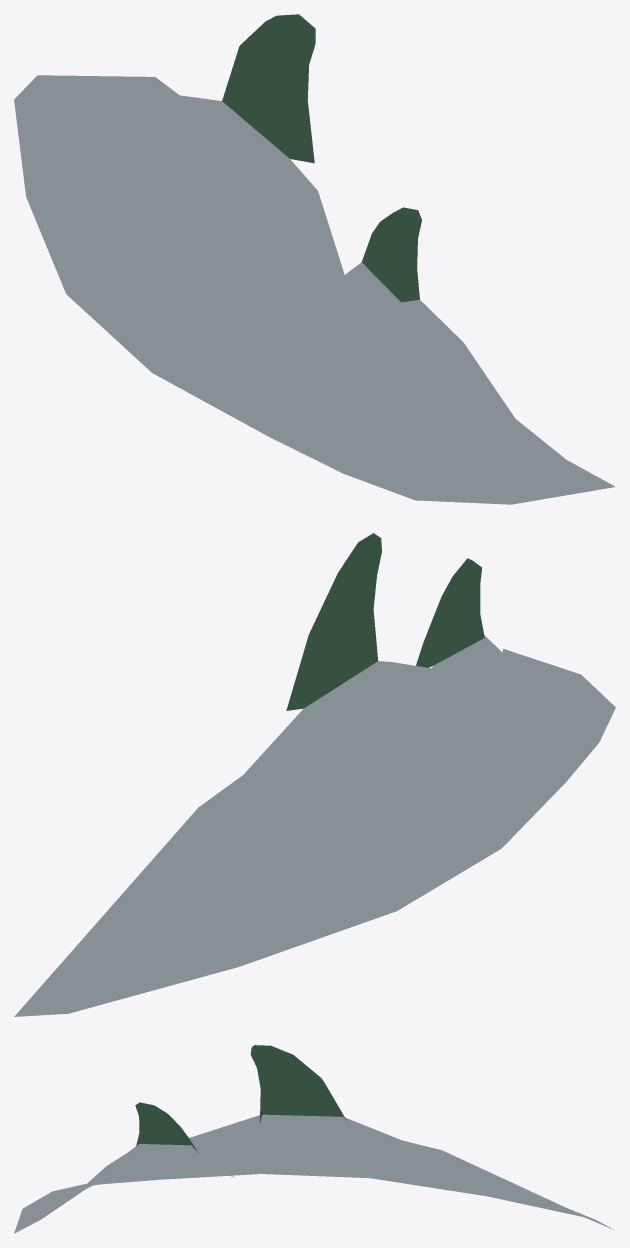
Rendered from Chunk9.obj.
3 renders of one model, top to bottom at view 1: azimuth 30°, elevation 25°; view 2: azimuth 150°, elevation 25°; view 3: azimuth 270°, elevation 25°, orthographic. The views are drawn at different scales.
Bounding box in the file's own units: 9077 × 11826 × 38525.
